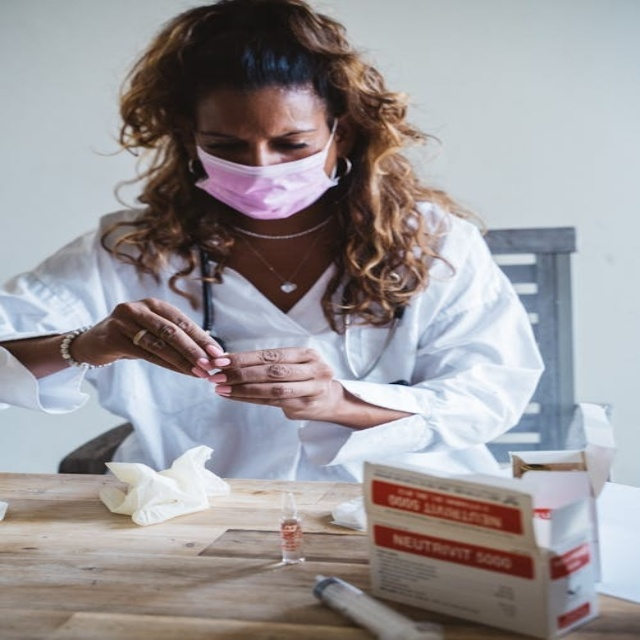Mascara: (192, 120, 344, 219)
Sin_gafas: (197, 128, 329, 160)
Sin_guantes: (78, 296, 231, 379), (207, 352, 370, 428)
